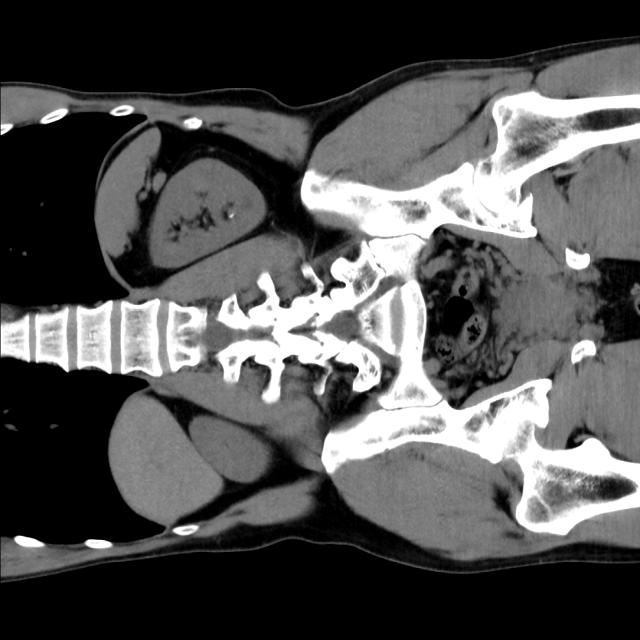kidneystone: (222, 209, 234, 220)
